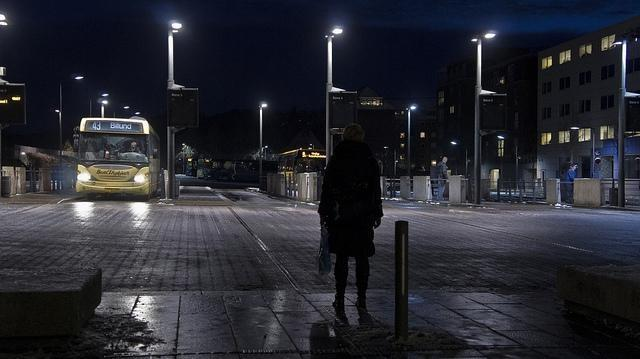bus: (78, 118, 164, 199), (274, 150, 326, 190)
